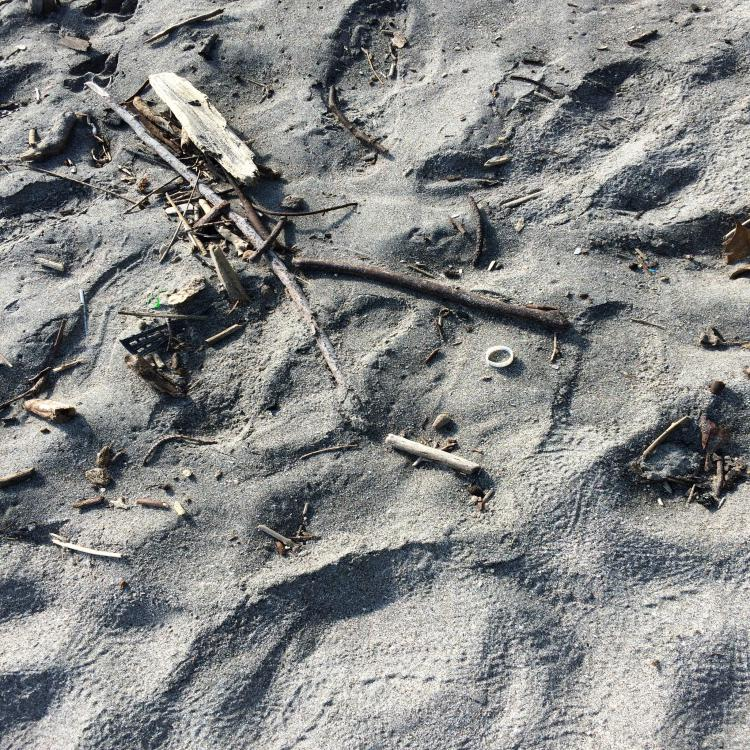Other plastic wrapper: (120, 322, 169, 356), (79, 289, 87, 334), (147, 290, 167, 308)
Plastic bottle cap: (485, 346, 513, 368)
